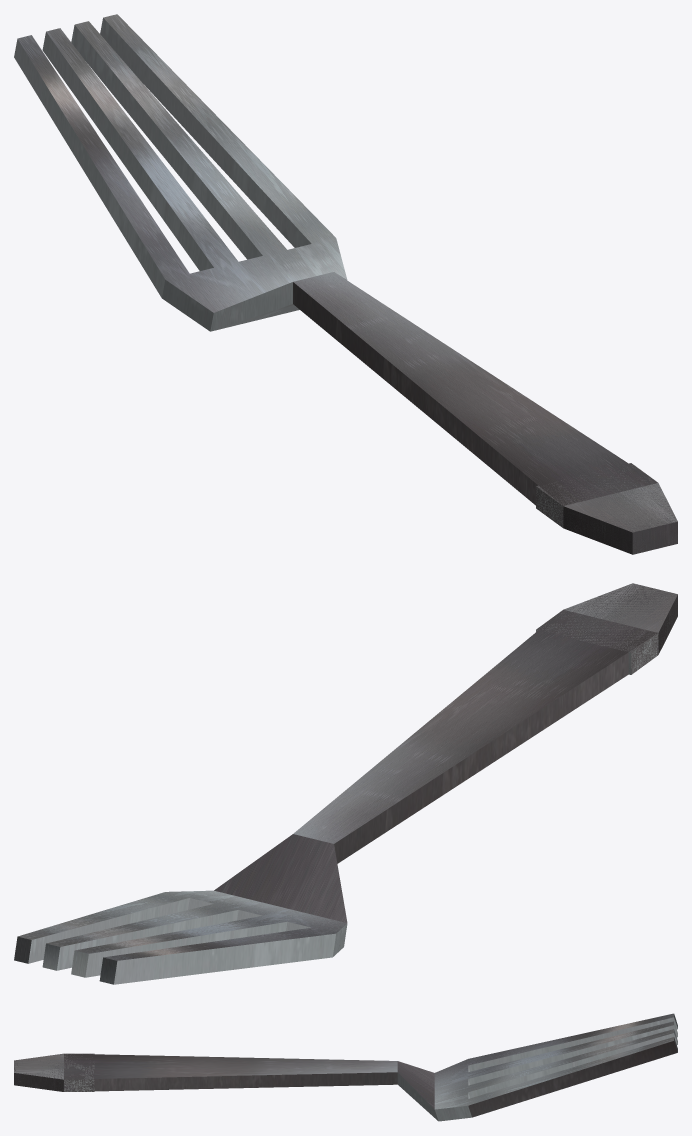
File: fork.glb
The picture shows the model from 3 angles, top to bottom: view 1: azimuth 30°, elevation 25°; view 2: azimuth 150°, elevation 25°; view 3: azimuth 270°, elevation 25°; orthographic projection. The views are drawn at different scales.
Parts seen in each view (by area): view 1: Plane; view 2: Plane; view 3: Plane.
Boxes of the visible parts, x1,y1,x2,y2 form: Plane: [14, 14, 677, 554]; Plane: [14, 583, 677, 984]; Plane: [14, 1013, 677, 1121].
Size of the model in its own units: 0.481 by 0.3647 by 2.88.
Materials: 1 (1 with a texture image).
